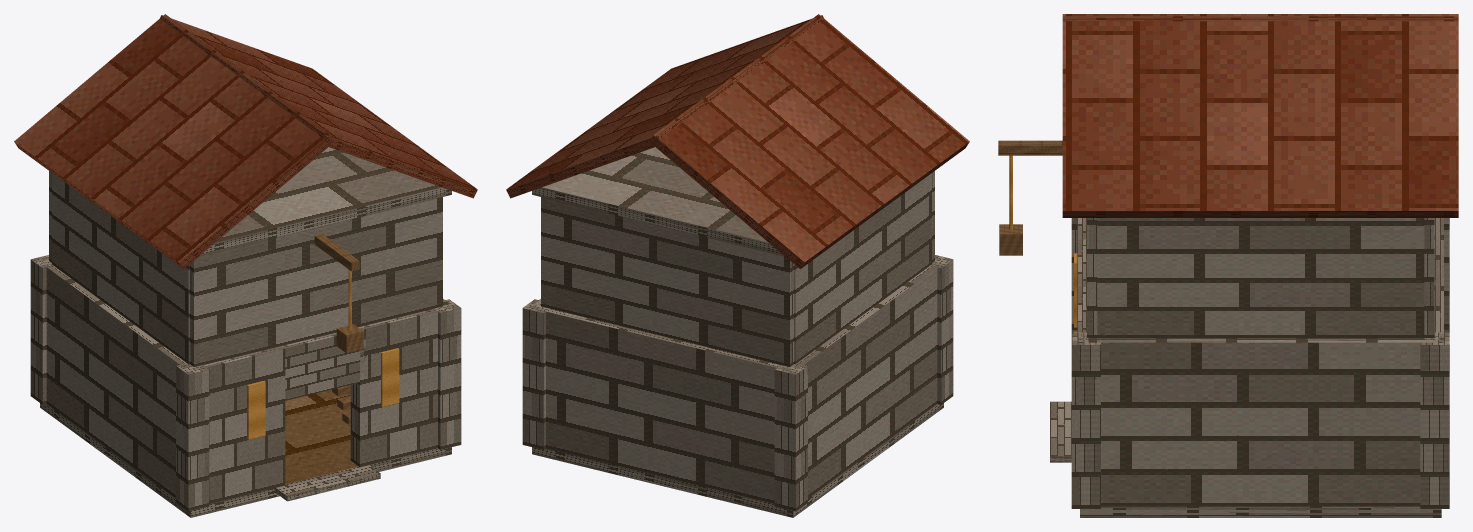
File: torre_de_deposito.glb
3 renders of one model, left to right at view 1: azimuth 30°, elevation 25°; view 2: azimuth 150°, elevation 25°; view 3: azimuth 270°, elevation 25°, orthographic. The views are drawn at different scales.
Parts seen in each view (by area): view 1: Roof_Upper_Tower, Walls_Lower, Floor_Ground; view 2: Roof_Upper_Tower, Walls_Lower, Floor_Ground; view 3: Roof_Upper_Tower, Walls_Lower, Floor_Ground.
Boxes of the visible parts, x1=… form: Roof_Upper_Tower: x1=14, y1=14, x2=477, y2=366; Walls_Lower: x1=30, y1=255, x2=461, y2=511; Floor_Ground: x1=40, y1=389, x2=451, y2=517; Roof_Upper_Tower: x1=506, y1=14, x2=969, y2=366; Walls_Lower: x1=522, y1=255, x2=953, y2=511; Floor_Ground: x1=532, y1=403, x2=943, y2=517; Roof_Upper_Tower: x1=998, y1=14, x2=1458, y2=338; Walls_Lower: x1=1071, y1=218, x2=1449, y2=508; Floor_Ground: x1=1050, y1=401, x2=1441, y2=517.
Size of the model in its own units: 9.6 by 10.93 by 10.7.
1 material, 1 textured.
